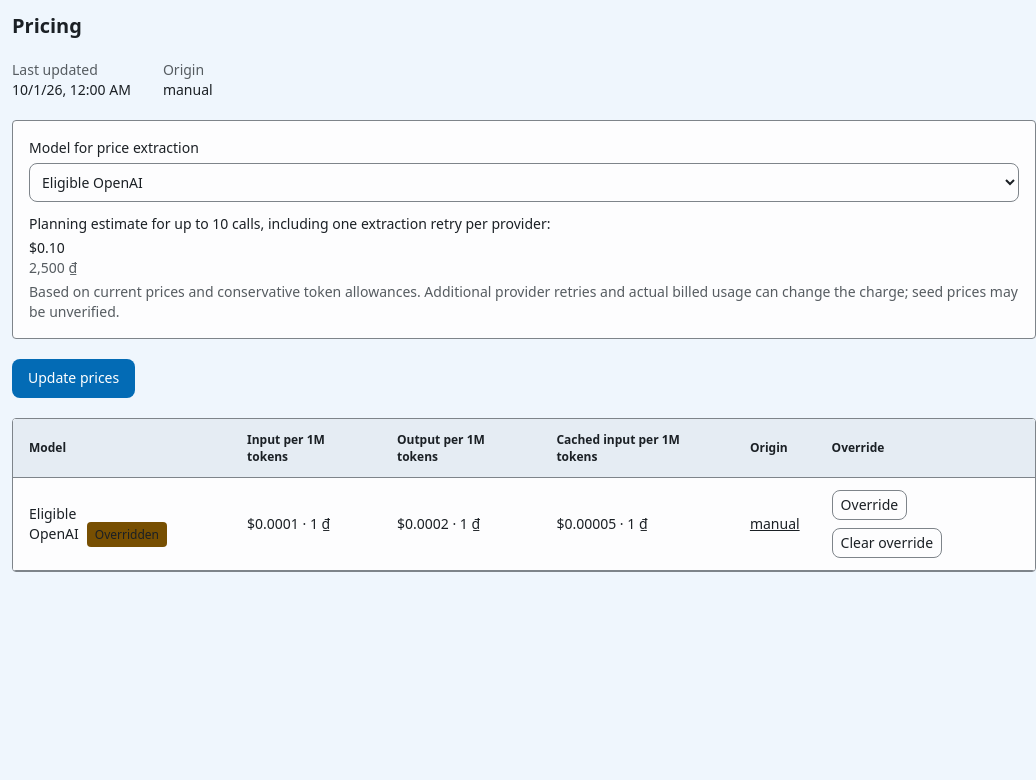
Test: PricingSettingsPage › preserves the selected model and shows an error when settings persistence fails
Select "Eligible Google" in the dropdown labelled "Model for price extraction" at (524, 183), box x1=29 y1=163 x2=1019 y2=202
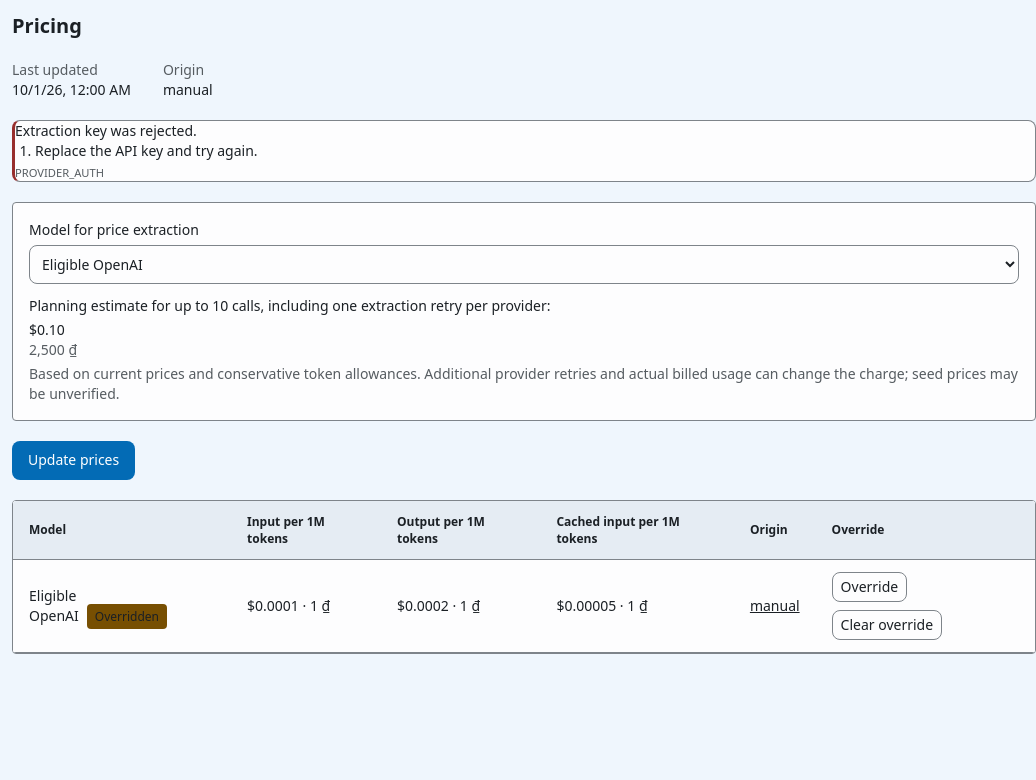
Expected: the text "$0.10" is shown, x1=29 y1=320 x2=65 y2=339
Expected: the text "Extraction key was rejected." is shown, x1=15 y1=121 x2=197 y2=140
